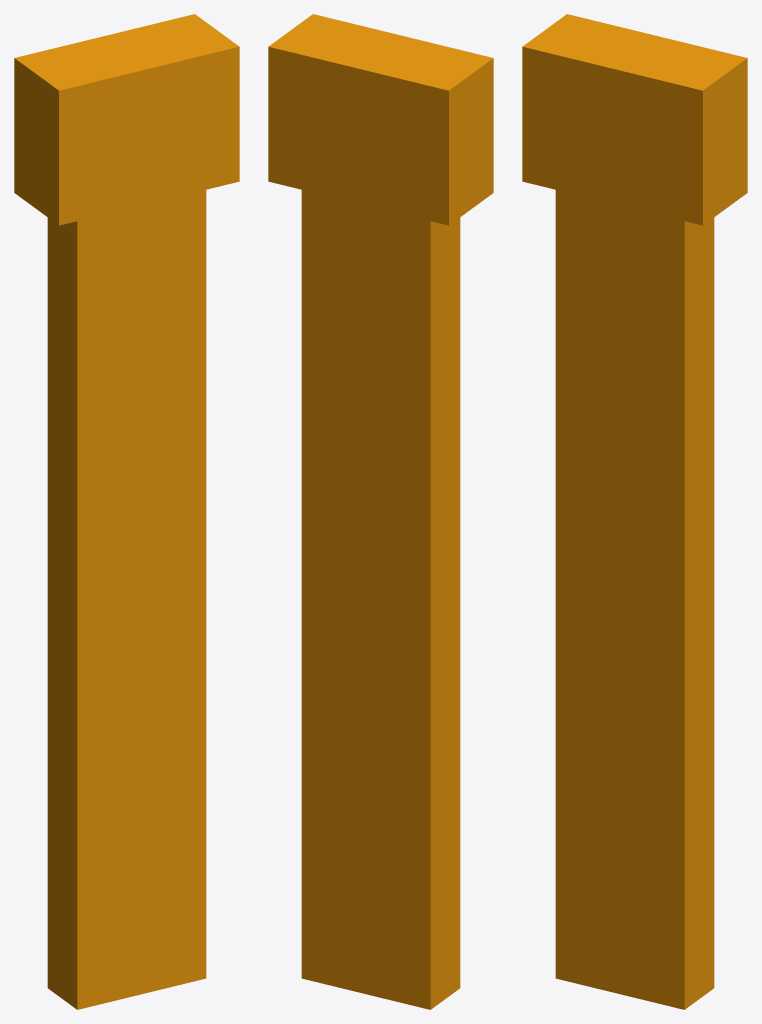
File: outfit_tie.glb
3 views of the same model, side by side, from view 1: azimuth 30°, elevation 25°; view 2: azimuth 150°, elevation 25°; view 3: azimuth 330°, elevation 25° (orthographic).
Visible parts, largest first — view 1: tie_blade, tie_knot; view 2: tie_blade, tie_knot; view 3: tie_blade, tie_knot.
Boxes of the visible parts, left/top/right/bottom form: tie_blade: left=47, top=190, right=206, bottom=1009; tie_knot: left=14, top=14, right=239, bottom=225; tie_blade: left=301, top=190, right=460, bottom=1009; tie_knot: left=268, top=14, right=493, bottom=225; tie_blade: left=555, top=190, right=714, bottom=1009; tie_knot: left=522, top=14, right=747, bottom=225.
Bounding box in the file's own units: 0.07 × 0.345 × 0.03.
